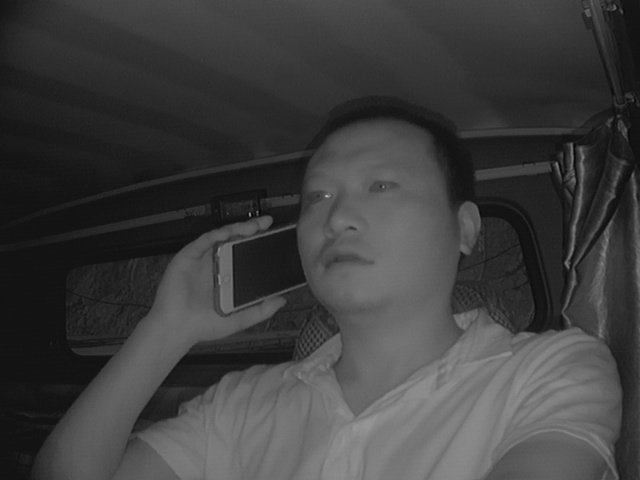hand: (159, 213, 282, 336)
